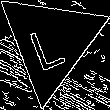L_N: (28, 13, 73, 71)
